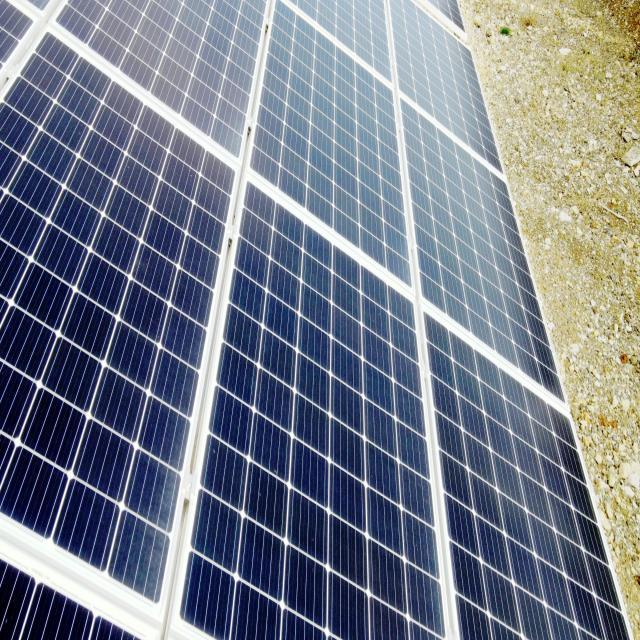no faulty: (3, 2, 629, 640)
